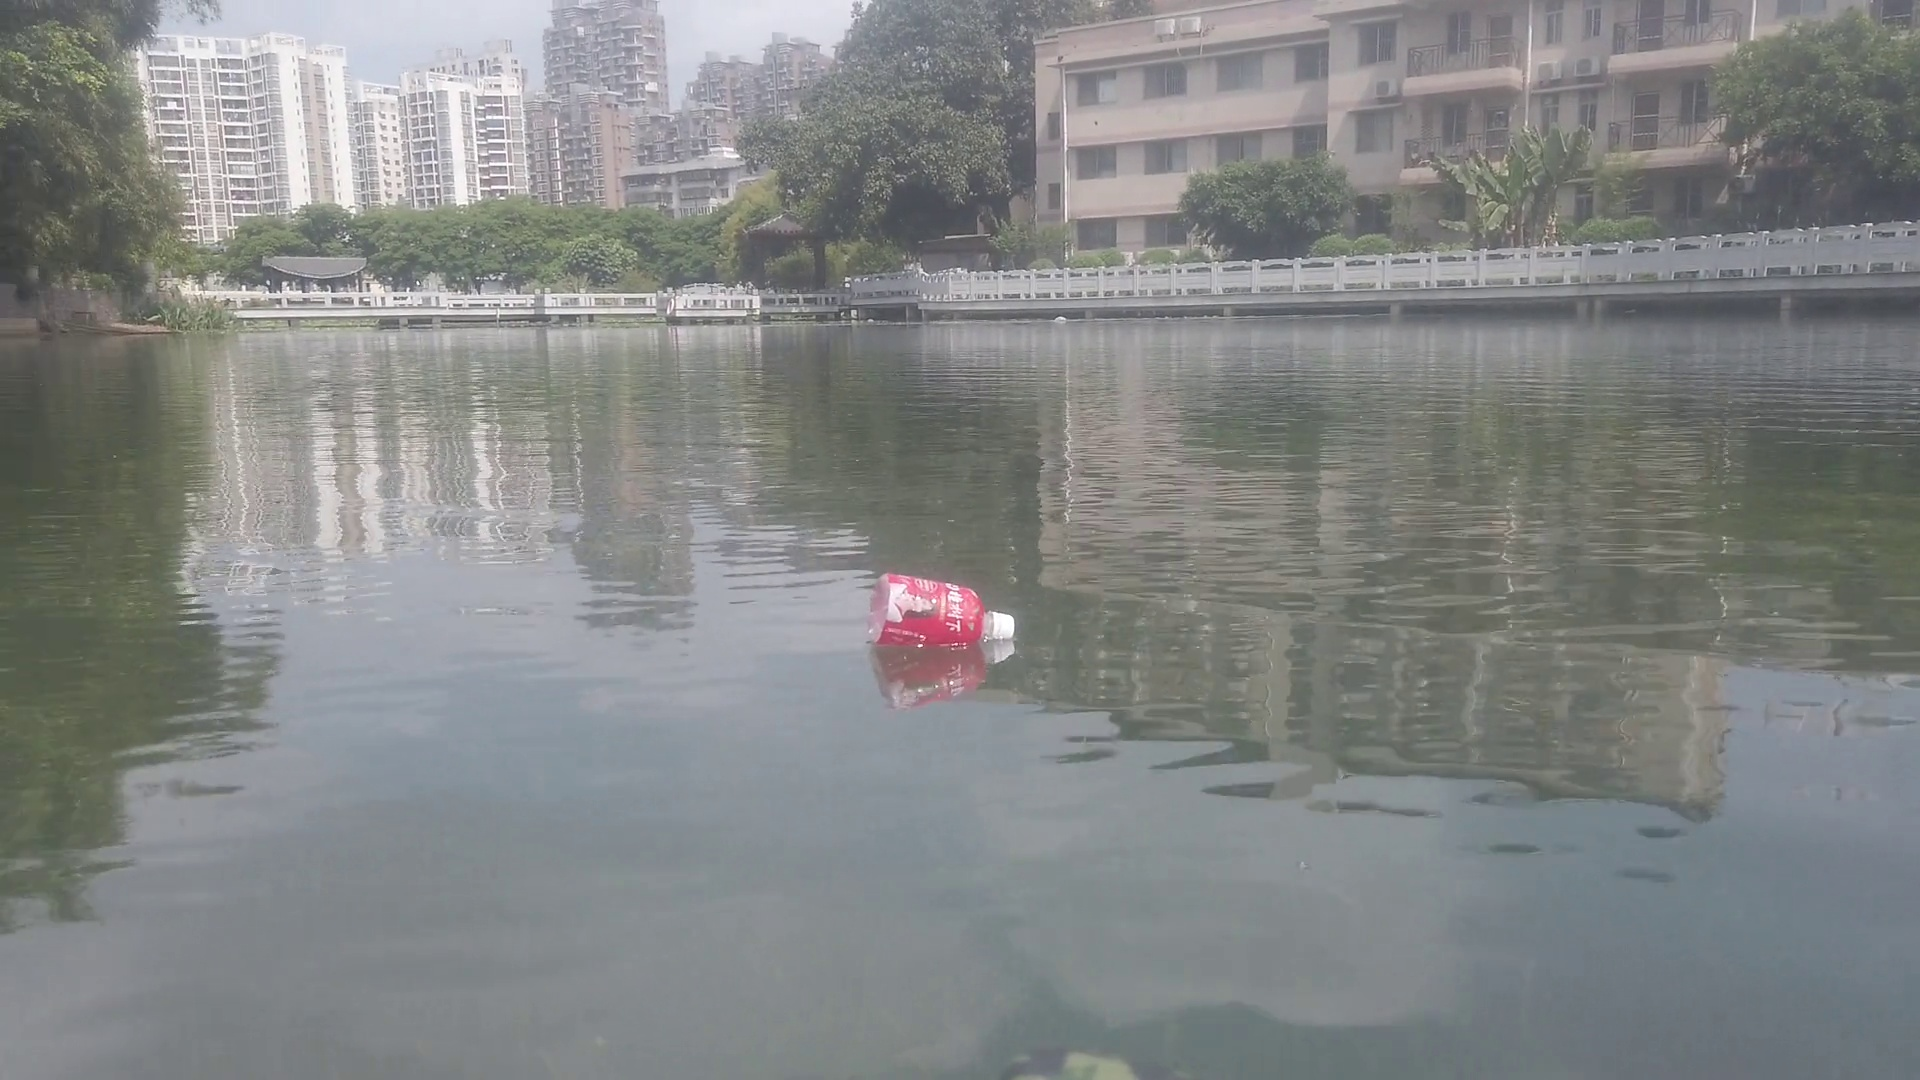bottle: (868, 571, 1017, 642)
plastic: (1048, 314, 1069, 323)
